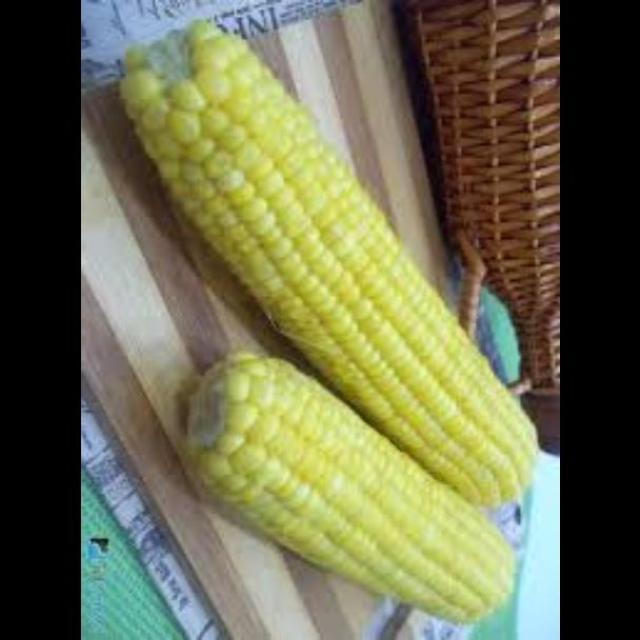corn: (122, 15, 554, 513), (180, 349, 518, 626)
